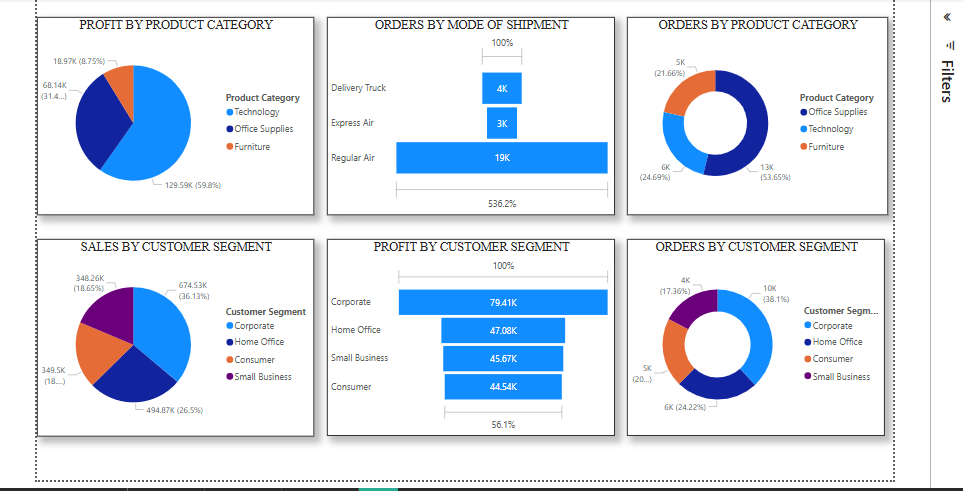

The page's visual inventory and layout, read from the dashboard file:
{"tool":"powerbi","page":{"name":"Page 2","canvas":[1280,720],"ordinal":1},"visuals":[{"type":"donutChart","title":"ORDERS BY PRODUCT CATEGORY","fields":{"Category":["Orders_with_Nulls.Product Category"],"Y":["Orders_with_Nulls.Total Number of orders"]},"box":[881.3,28.4,390,295.8],"z":0},{"type":"pieChart","title":"PROFIT BY PRODUCT CATEGORY","fields":{"Category":["Orders_with_Nulls.Product Category"],"Y":["Orders_with_Nulls.Total Profit"]},"box":[0,28.4,413.8,295.8],"z":1000},{"type":"funnel","title":"ORDERS BY MODE OF SHIPMENT","fields":{"Category":["Orders_with_Nulls.Ship Mode"],"Y":["Orders_with_Nulls.Total Number of orders"]},"box":[433.2,28.4,430.2,295.8],"z":2000},{"type":"pieChart","title":"SALES BY CUSTOMER SEGMENT","fields":{"Y":["Orders_with_Nulls.Total Sales"],"Category":["Orders_with_Nulls.Customer Segment"]},"box":[0,360,413.8,295],"z":3000},{"type":"funnel","title":"PROFIT BY CUSTOMER SEGMENT","fields":{"Y":["Orders_with_Nulls.Total Profit"],"Category":["Orders_with_Nulls.Customer Segment"]},"box":[433.2,360,430.2,294.3],"z":4000},{"type":"donutChart","title":"ORDERS BY CUSTOMER SEGMENT","fields":{"Category":["Orders_with_Nulls.Customer Segment"],"Y":["Orders_with_Nulls.Total Number of orders"]},"box":[881.3,360,385.4,294.3],"z":5000}]}

Visuals, with their boxes in screenshot pixels (x1, y1, x2, y2):
"ORDERS BY PRODUCT CATEGORY" donutChart: 626:14:888:213
"PROFIT BY PRODUCT CATEGORY" pieChart: 33:14:311:213
"ORDERS BY MODE OF SHIPMENT" funnel: 324:14:614:213
"SALES BY CUSTOMER SEGMENT" pieChart: 33:237:311:436
"PROFIT BY CUSTOMER SEGMENT" funnel: 324:237:614:435
"ORDERS BY CUSTOMER SEGMENT" donutChart: 626:237:885:435
